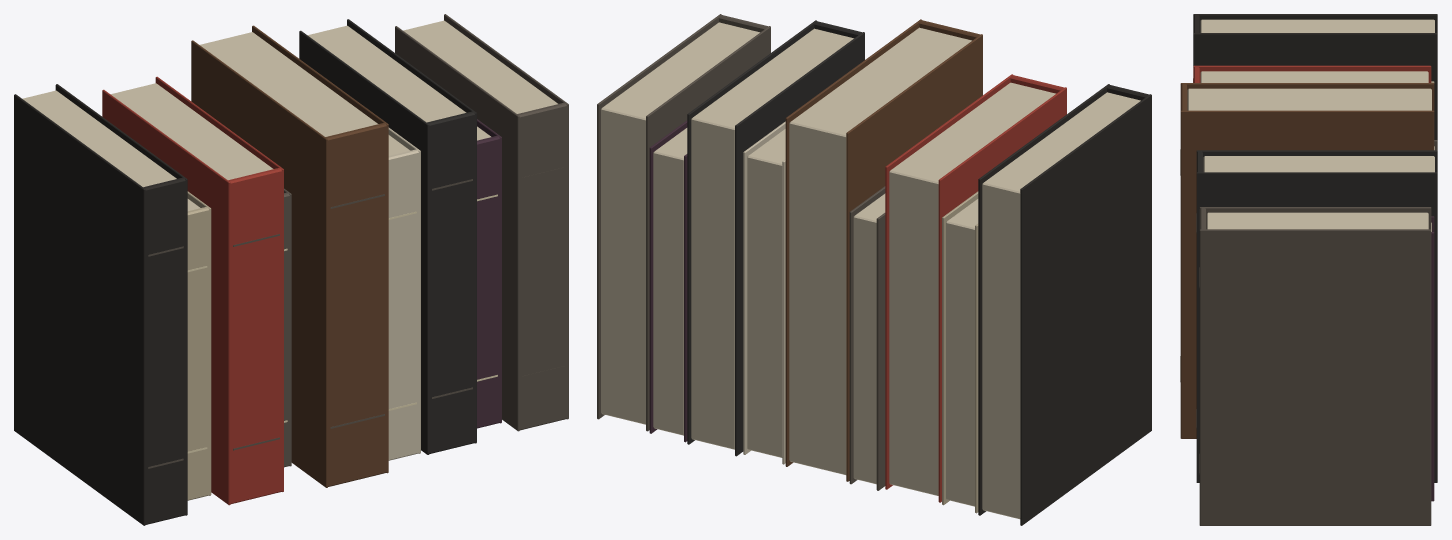
Rendered from bedroom-book-row-ebe6a6affaac.glb.
The picture shows the model from 3 angles, left to right: view 1: azimuth 30°, elevation 25°; view 2: azimuth 150°, elevation 25°; view 3: azimuth 270°, elevation 25°; orthographic projection. The views are drawn at different scales.
Visible parts, largest first — view 1: speaker-cloth, wood-walnut-dark, fabric, accent-warm, paper, plastic-dark, cloth-cream, enamel-beige, cloth-plum; view 2: paper, speaker-cloth, wood-walnut-dark, fabric, plastic-dark, accent-warm, cloth-cream, cloth-plum, enamel-beige; view 3: fabric, paper, wood-walnut-dark, plastic-dark, speaker-cloth, accent-warm, cloth-plum.
Part boxes in pixels (x1,y1,x2,y2): speaker-cloth: (14,84,187,525); wood-walnut-dark: (191,25,388,487); fabric: (148,14,568,468); accent-warm: (102,76,283,505); paper: (22,20,557,210); plastic-dark: (299,19,476,454); cloth-cream: (388,127,420,460); enamel-beige: (187,191,211,500); cloth-plum: (477,119,501,428); paper: (601,22,1140,519); speaker-cloth: (978,84,1151,525); wood-walnut-dark: (785,19,982,481); fabric: (597,14,885,490); plastic-dark: (687,20,864,456); accent-warm: (885,74,1066,502); cloth-cream: (743,121,785,464); cloth-plum: (649,120,687,442); enamel-beige: (942,191,978,513); fabric: (1180,78,1437,525); paper: (1187,19,1434,231); wood-walnut-dark: (1180,83,1434,438); plastic-dark: (1196,150,1437,482); speaker-cloth: (1193,14,1437,140); accent-warm: (1193,65,1431,82); cloth-plum: (1431,216,1434,501).
Bounding box in the file's own units: 0.293 × 0.228 × 0.1622.
